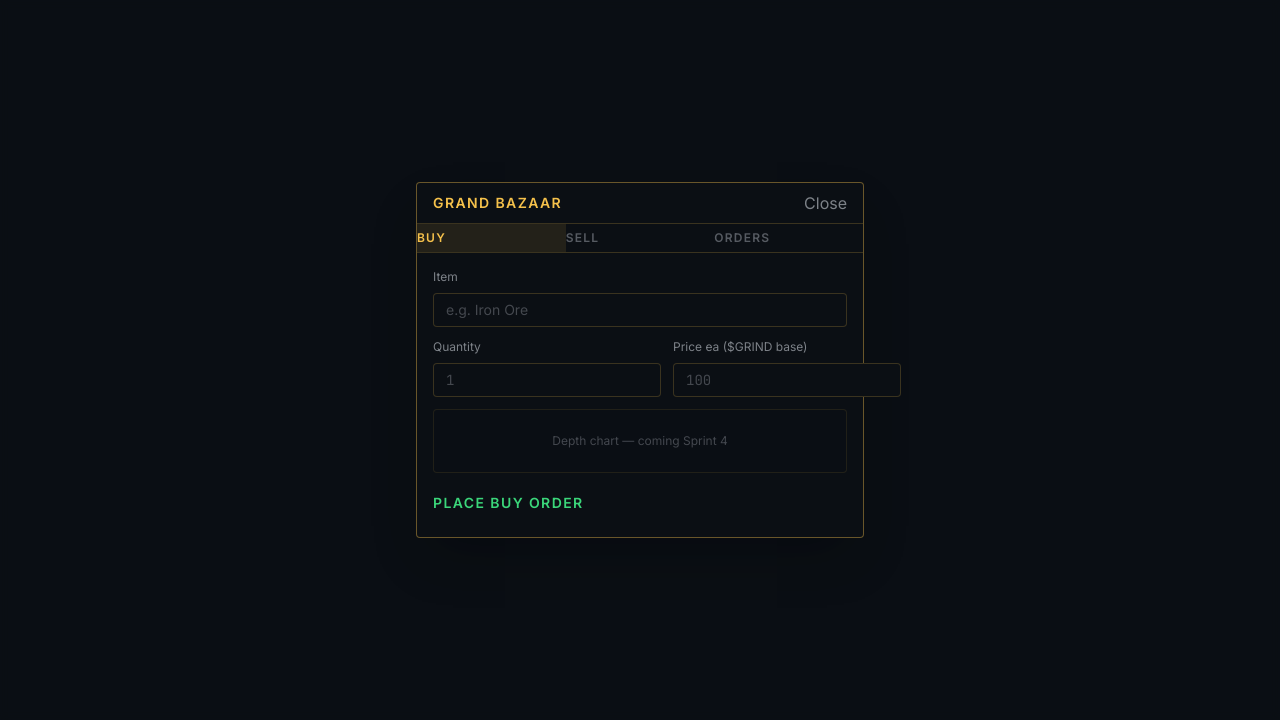
it: GrandBazaar › shows error when submitting with empty item name
This screenshot has width=1280, height=720.
Click the button with test id "ge-submit" at (462, 502), box [433,485,847,521]
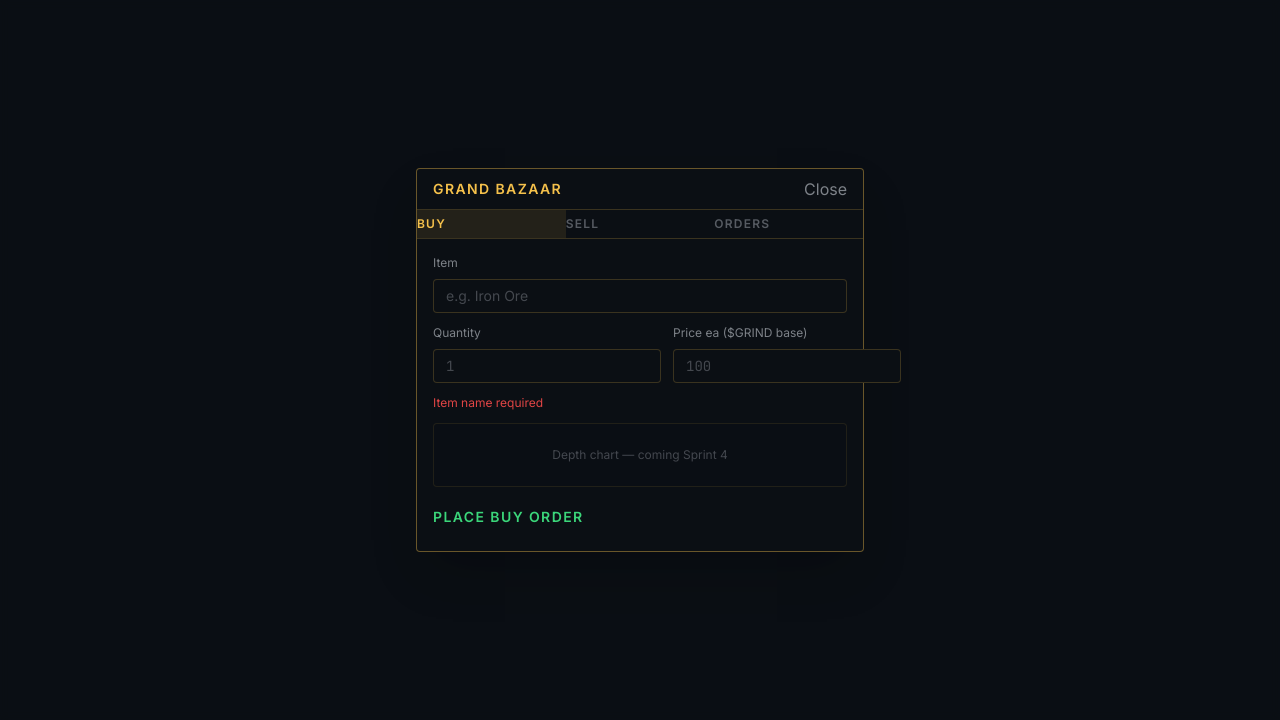
Expected: the text with test id "ge-error" reads "Item name required", [433,395,543,410]
